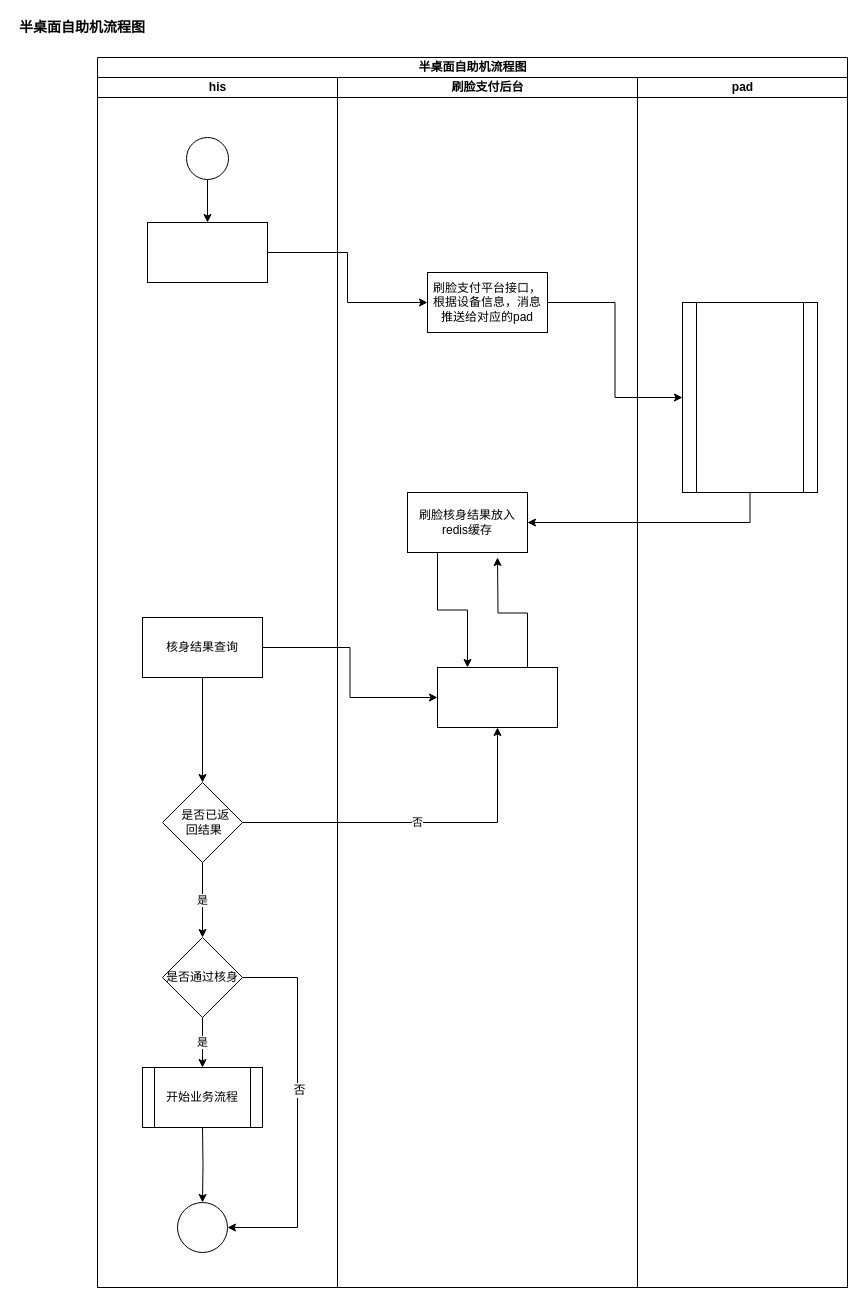
The diagram is 865 pixels wide and 1305 high, and some of its shapes have lost their labels. The shapes that lost their labels are listed below. From the top down, each one's centre as x and y in pixels, then its label:
At [207,158]: "开始".
At [207,252]: "读取本地对应pad设备信息（设备号），获取需要核身的用户信息".
At [750,397]: "刷脸核身流程 根据用户信息，调用刷脸进行核身".
At [497,697]: "刷脸支付平台接口".
At [202,1227]: "结束".
